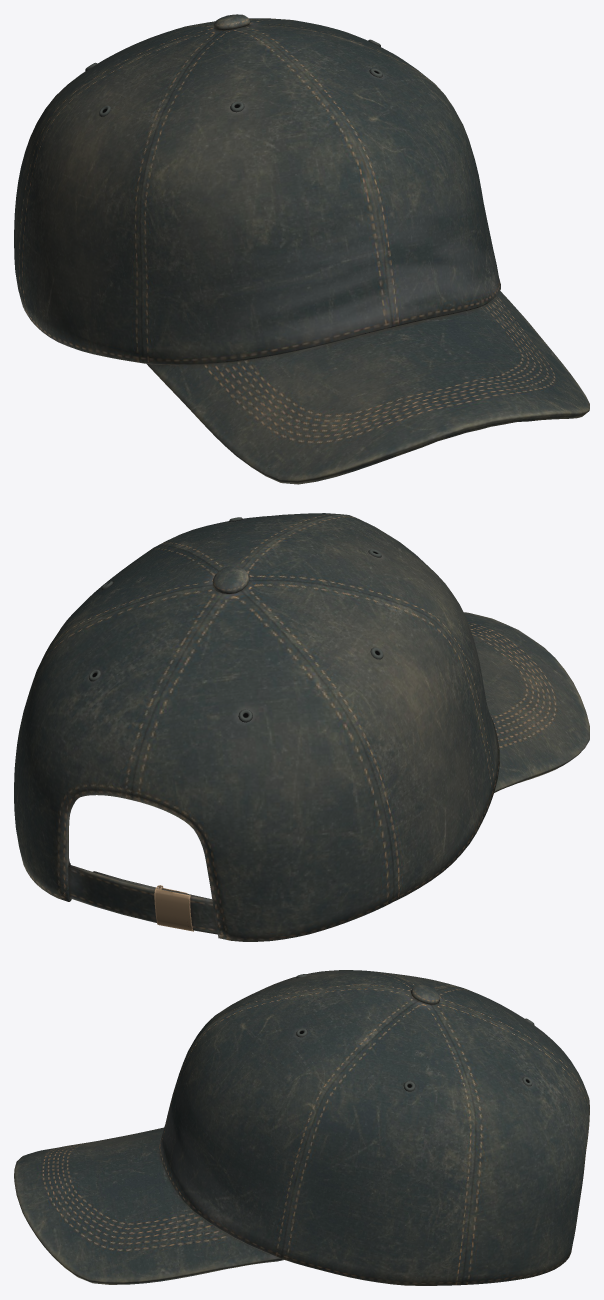
The model's file is Wrong_helmet.fbx.
3 views of the same model, one above another, from view 1: azimuth 30°, elevation 25°; view 2: azimuth 150°, elevation 25°; view 3: azimuth 270°, elevation 25° (orthographic). The views are drawn at different scales.
Parts seen in each view (by area): view 1: Wrong_Helmet; view 2: Wrong_Helmet; view 3: Wrong_Helmet.
Part boxes in pixels (x1,y1,x2,y2): Wrong_Helmet: [14, 14, 589, 484]; Wrong_Helmet: [14, 513, 589, 941]; Wrong_Helmet: [14, 970, 589, 1285].
Bounding box in the file's own units: 14.96 × 10.33 × 22.71.
1 material, 1 textured.
